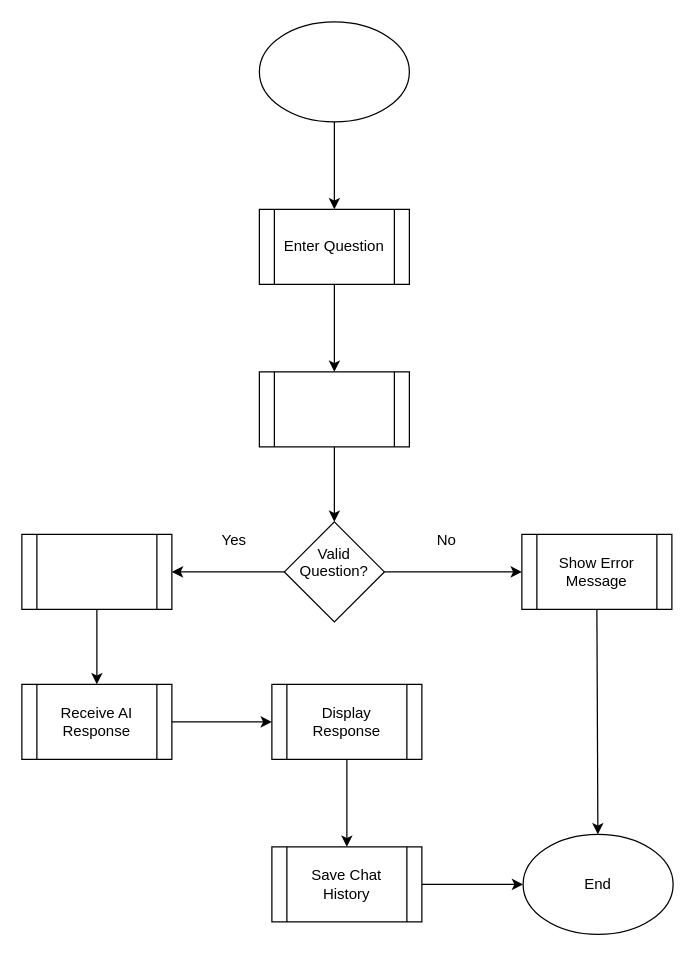
The diagram is 695 pixels wide and 956 high, and some of its shapes have lost their labels. The shapes that lost their labels are listed below. From the top down, each one's box as (x1, y1, x2, y2) in pixels, then its label:
(258, 21, 409, 122): Start
(258, 371, 409, 447): Send Request to Backend
(21, 533, 172, 609): Send Prompt to Gemini API
